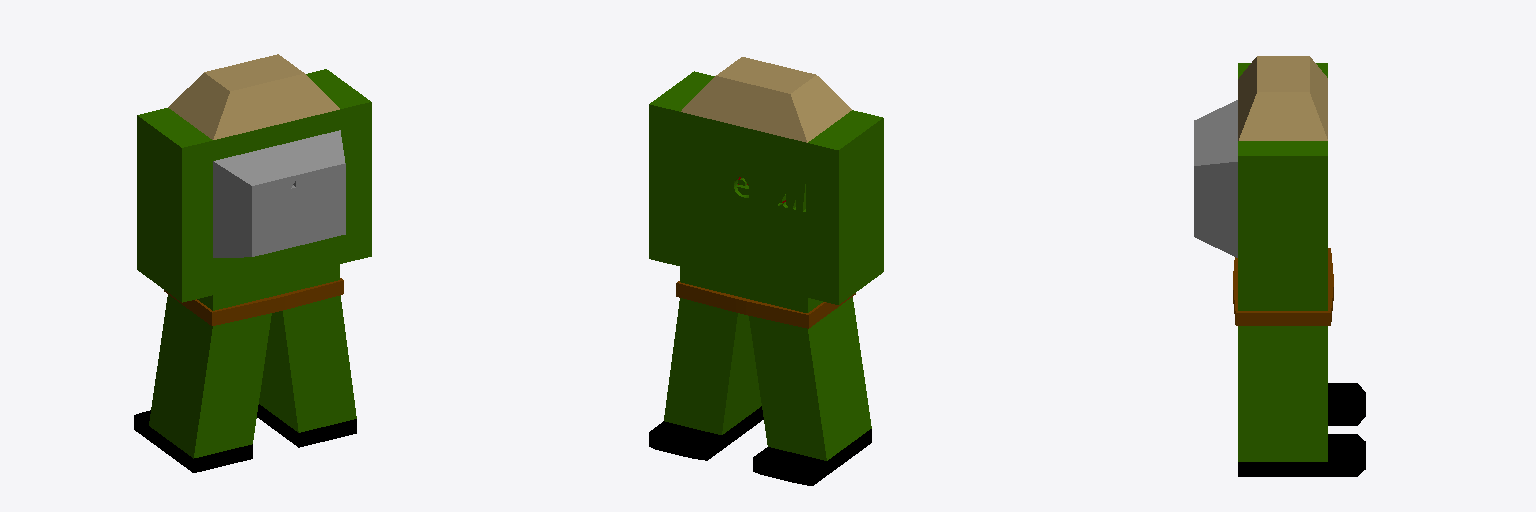
3 renders of one model, left to right at view 1: azimuth 30°, elevation 25°; view 2: azimuth 150°, elevation 25°; view 3: azimuth 270°, elevation 25°, orthographic.
Parts seen in each view (by area): view 1: pCube3; view 2: pCube3; view 3: pCube3.
Part boxes in pixels (x1,y1,x2,y2): pCube3: (134, 54, 371, 472); pCube3: (649, 57, 883, 485); pCube3: (1194, 56, 1365, 476).
Bounding box in the file's own units: 3.88 × 7.12 × 3.04.
1 materials, 1 textured.